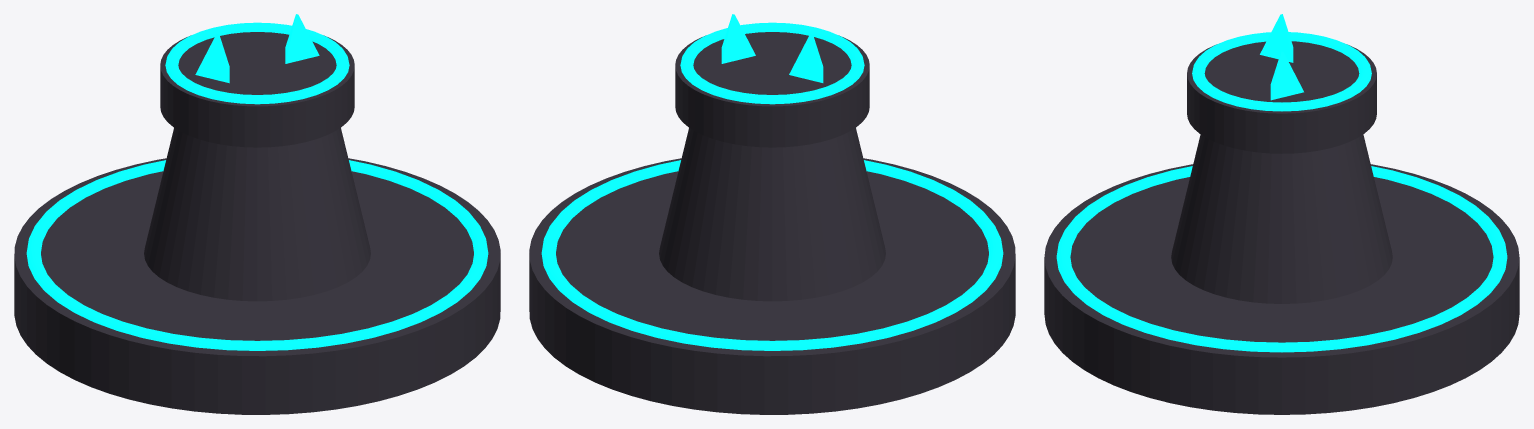
The model's file is rebatedor_kiara_p2.glb.
3 views of the same model, side by side, from view 1: azimuth 30°, elevation 25°; view 2: azimuth 150°, elevation 25°; view 3: azimuth 270°, elevation 25° (orthographic). The views are drawn at different scales.
Visible parts, largest first — view 1: rebatedor_kiara_p2_Base, rebatedor_kiara_p2_Handle, rebatedor_kiara_p2_GripCap, rebatedor_kiara_p2_BaseHalo, rebatedor_kiara_p2_GripRing, rebatedor_kiara_p2_Ear_L, rebatedor_kiara_p2_Ear_R; view 2: rebatedor_kiara_p2_Base, rebatedor_kiara_p2_Handle, rebatedor_kiara_p2_GripCap, rebatedor_kiara_p2_BaseHalo, rebatedor_kiara_p2_GripRing, rebatedor_kiara_p2_Ear_L, rebatedor_kiara_p2_Ear_R; view 3: rebatedor_kiara_p2_Base, rebatedor_kiara_p2_Handle, rebatedor_kiara_p2_GripCap, rebatedor_kiara_p2_BaseHalo, rebatedor_kiara_p2_GripRing, rebatedor_kiara_p2_Ear_R, rebatedor_kiara_p2_Ear_L.
Boxes of the visible parts, <box> form: rebatedor_kiara_p2_Base: <box>14,158,500,414</box>; rebatedor_kiara_p2_Handle: <box>144,128,370,301</box>; rebatedor_kiara_p2_GripCap: <box>160,32,354,147</box>; rebatedor_kiara_p2_BaseHalo: <box>26,160,488,350</box>; rebatedor_kiara_p2_GripRing: <box>165,22,349,104</box>; rebatedor_kiara_p2_Ear_L: <box>195,33,229,83</box>; rebatedor_kiara_p2_Ear_R: <box>285,14,319,63</box>; rebatedor_kiara_p2_Base: <box>529,158,1015,414</box>; rebatedor_kiara_p2_Handle: <box>659,128,885,301</box>; rebatedor_kiara_p2_GripCap: <box>675,32,869,147</box>; rebatedor_kiara_p2_BaseHalo: <box>541,160,1003,350</box>; rebatedor_kiara_p2_GripRing: <box>680,22,864,104</box>; rebatedor_kiara_p2_Ear_L: <box>789,33,823,82</box>; rebatedor_kiara_p2_Ear_R: <box>721,14,755,63</box>; rebatedor_kiara_p2_Base: <box>1044,164,1519,414</box>; rebatedor_kiara_p2_Handle: <box>1171,134,1392,303</box>; rebatedor_kiara_p2_GripCap: <box>1187,41,1376,153</box>; rebatedor_kiara_p2_BaseHalo: <box>1056,166,1507,352</box>; rebatedor_kiara_p2_GripRing: <box>1192,32,1371,111</box>; rebatedor_kiara_p2_Ear_R: <box>1270,51,1303,100</box>; rebatedor_kiara_p2_Ear_L: <box>1260,14,1293,62</box>.
Bounding box in the file's own units: 0.15 × 0.098 × 0.15.
